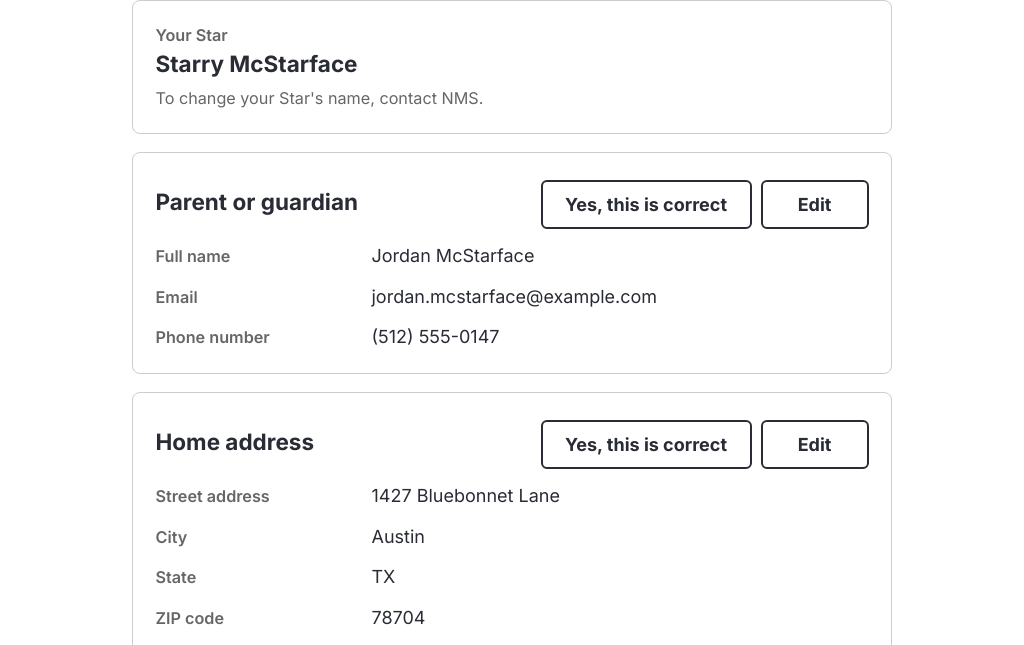
Test: FamilyTab › throws away the draft on Cancel
Click the button with aria-label "Edit home address" at [814, 444], box [760,420,868,468]
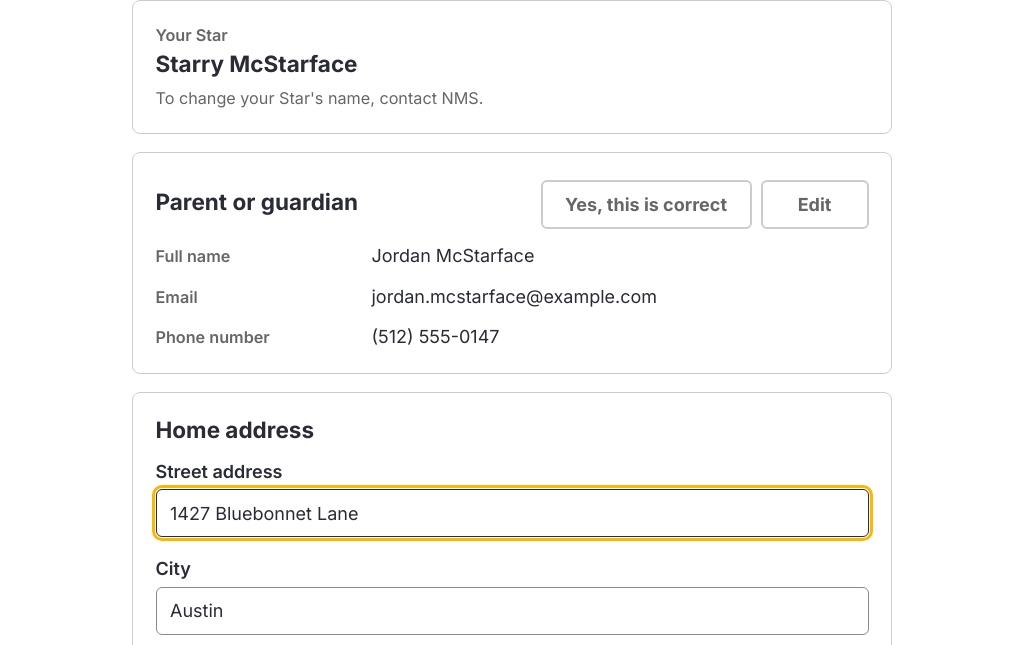
Replace the text in the field labelled "City" with "Round Rock" at [512, 611], box [156,587,868,635]
(page scrolled)
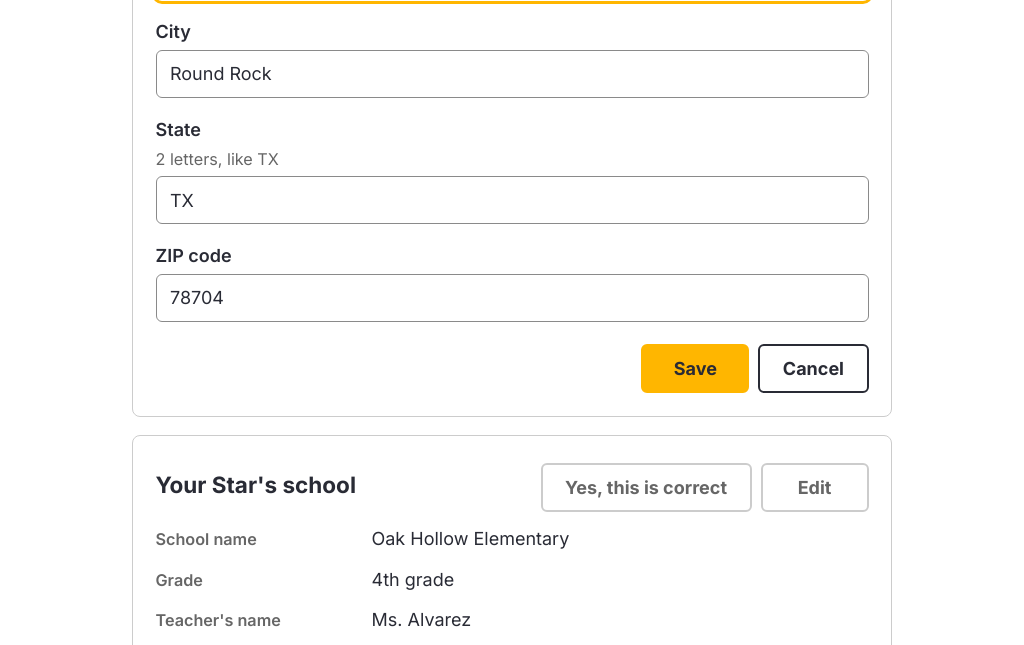
Click the button "Cancel" at [813, 369], box [758,344,868,393]
(page scrolled)
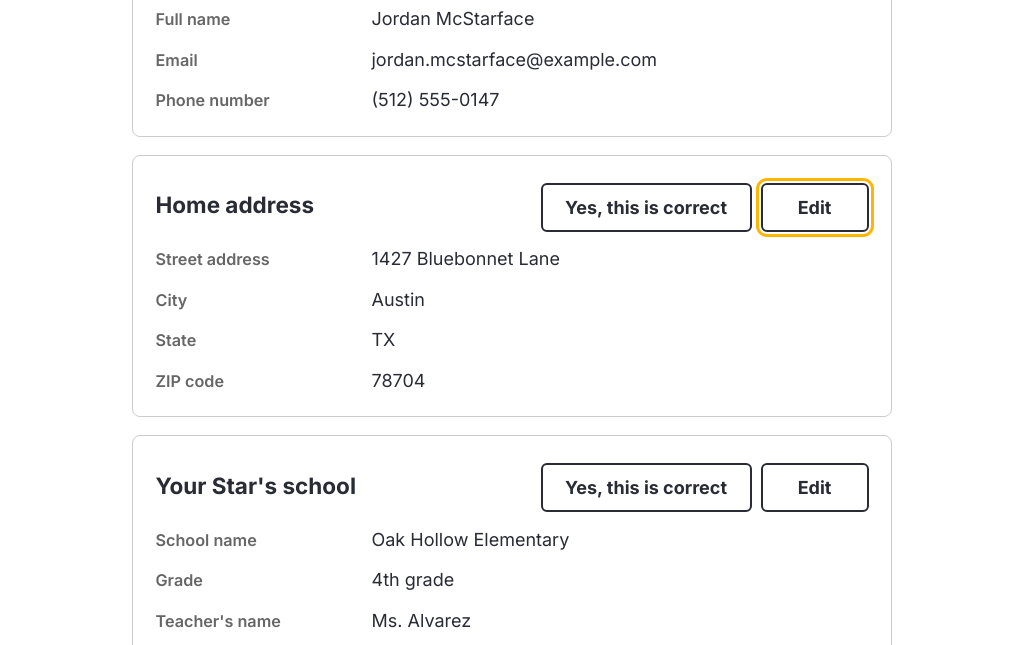
expect the text "Round Rock" is not shown: met
expect the text "Austin" is shown: met, box [372,288,425,310]
Click the button with aria-label "Edit home address" at [814, 207], box [760,182,868,232]
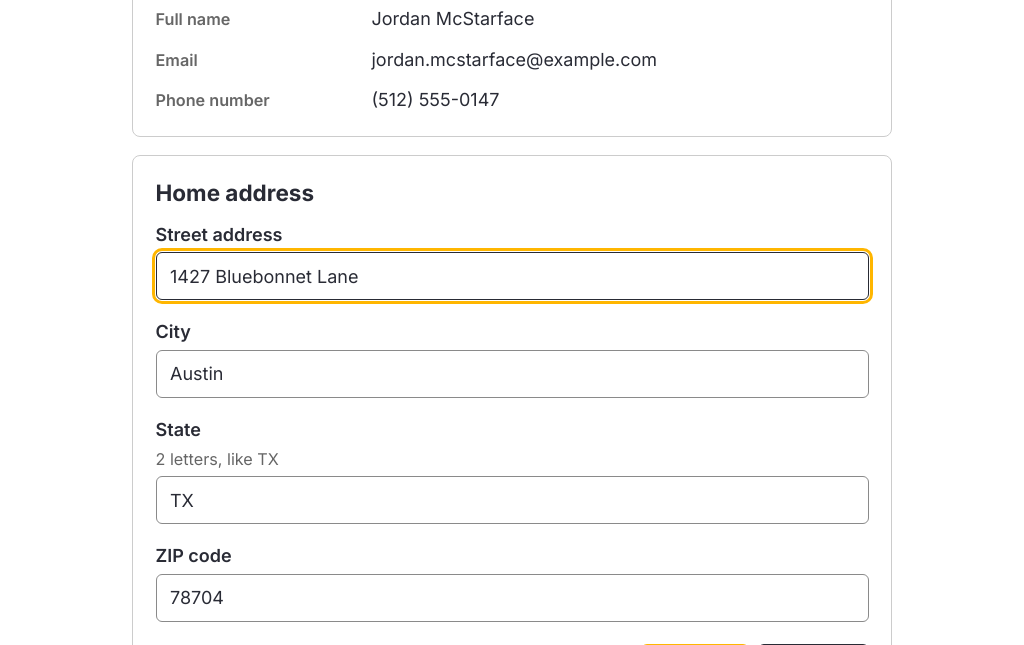
expect the field labelled "City" holds "Austin": met, box [156,350,868,398]
